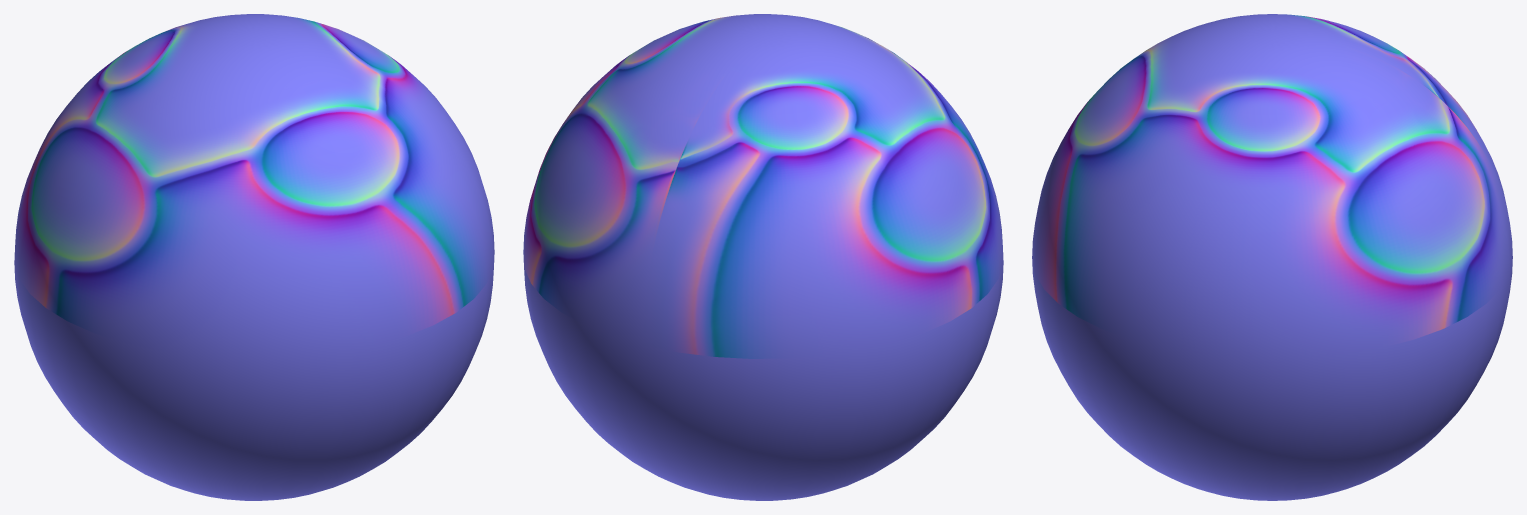
File: FBX_Safe_01.fbx
3 renders of one model, left to right at view 1: azimuth 30°, elevation 25°; view 2: azimuth 150°, elevation 25°; view 3: azimuth 270°, elevation 25°, orthographic.
Visible parts, largest first — view 1: pSphere1; view 2: pSphere1; view 3: pSphere1.
Boxes of the visible parts, x1,y1,x2,y2 form: pSphere1: (14, 14, 494, 500); pSphere1: (523, 14, 1003, 500); pSphere1: (1032, 14, 1512, 500).
Bounding box in the file's own units: 392 × 399 × 392.
